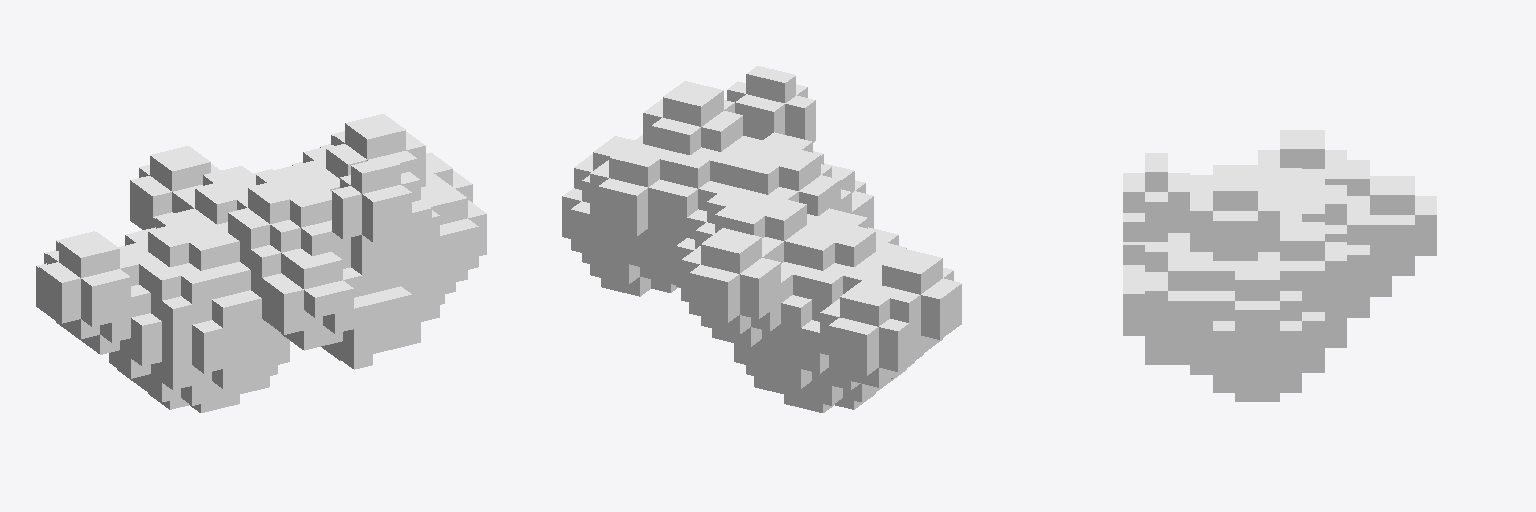
The model's file is cloud_0.obj.
3 views of the same model, side by side, from view 1: azimuth 30°, elevation 25°; view 2: azimuth 150°, elevation 25°; view 3: azimuth 270°, elevation 25° (orthographic).
Parts seen in each view (by area): view 1: cloud_0; view 2: cloud_0; view 3: cloud_0.
Part boxes in pixels (x1,y1,x2,y2): cloud_0: (36,114,486,412); cloud_0: (562,66,961,412); cloud_0: (1123,130,1436,401).
Size of the model in its own units: 20 by 12 by 14.